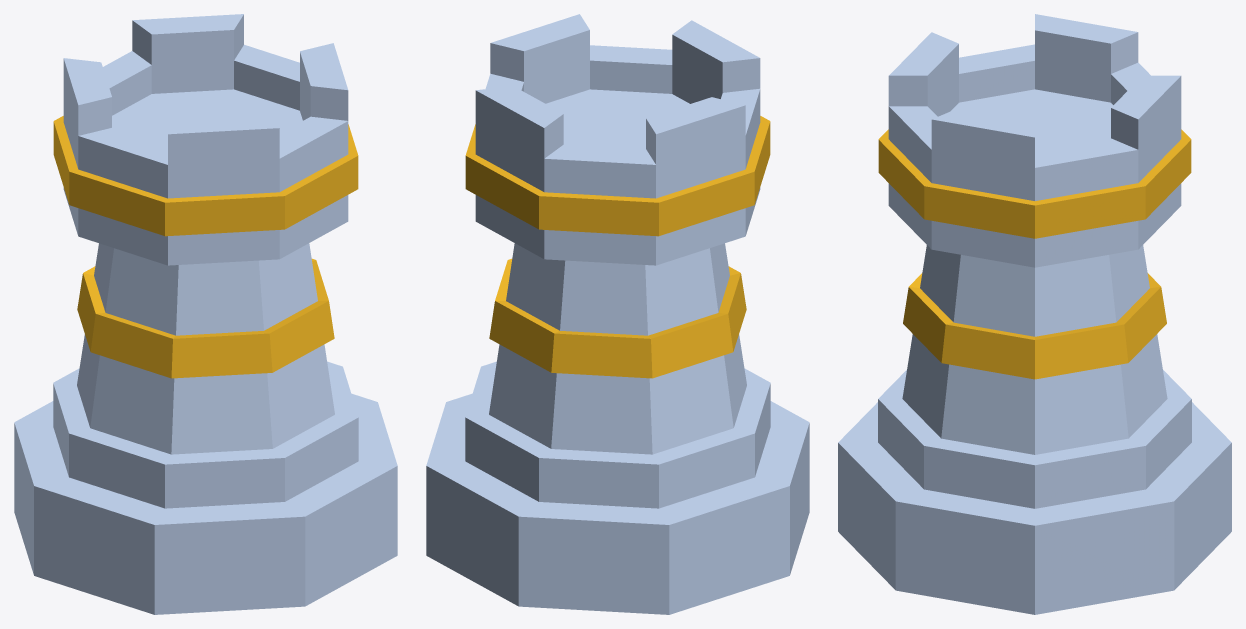
File: fire2.gltf
The picture shows the model from 3 angles, left to right: view 1: azimuth 30°, elevation 25°; view 2: azimuth 150°, elevation 25°; view 3: azimuth 270°, elevation 25°; orthographic projection.
Parts seen in each view (by area): view 1: Fire2; view 2: Fire2; view 3: Fire2.
Part boxes in pixels (left/top/right/bottom): Fire2: left=14, top=14, right=397, bottom=614; Fire2: left=426, top=14, right=809, bottom=614; Fire2: left=838, top=14, right=1231, bottom=614.
Bounding box in the file's own units: 8 × 10.22 × 8.
